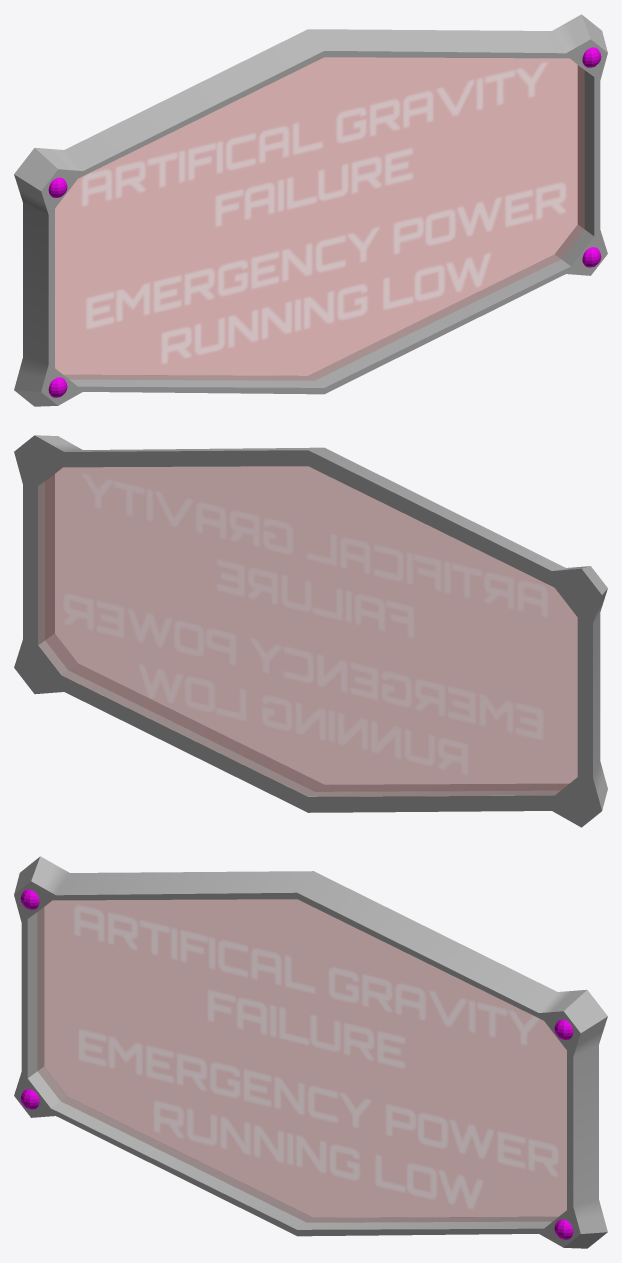
The model's file is GAME3040 - Gravity Failure Panel.fbx.
The picture shows the model from 3 angles, top to bottom: view 1: azimuth 30°, elevation 25°; view 2: azimuth 150°, elevation 25°; view 3: azimuth 330°, elevation 25°; orthographic projection.
Parts seen in each view (by area): view 1: Panel_Screen, Panel_Base; view 2: Panel_Screen, Panel_Base; view 3: Panel_Screen, Panel_Base.
Part boxes in pixels (left/top/right/bottom): Panel_Screen: left=55, top=57, right=584, bottom=380; Panel_Base: left=14, top=14, right=607, bottom=406; Panel_Screen: left=39, top=466, right=577, bottom=796; Panel_Base: left=14, top=435, right=607, bottom=827; Panel_Screen: left=37, top=899, right=566, bottom=1222; Panel_Base: left=14, top=856, right=607, bottom=1248.
Size of the model in its own units: 10.29 by 6.06 by 0.6164.
3 materials, 1 textured.
